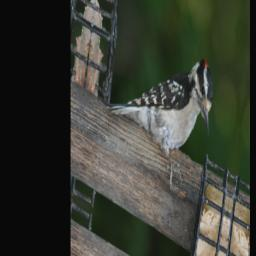Woodpecker: (101, 5, 217, 210)
